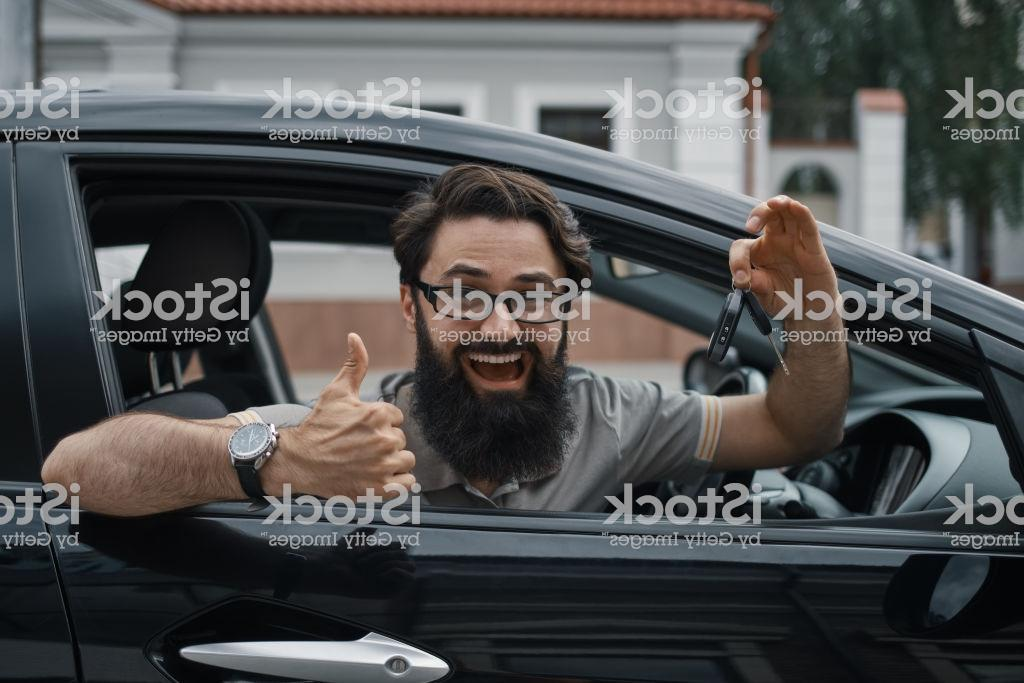thumbsup: (312, 326, 417, 501)
